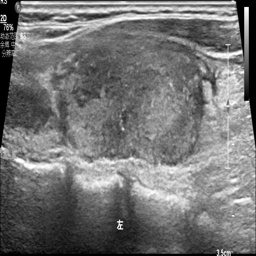mass: (12, 32, 202, 168)
